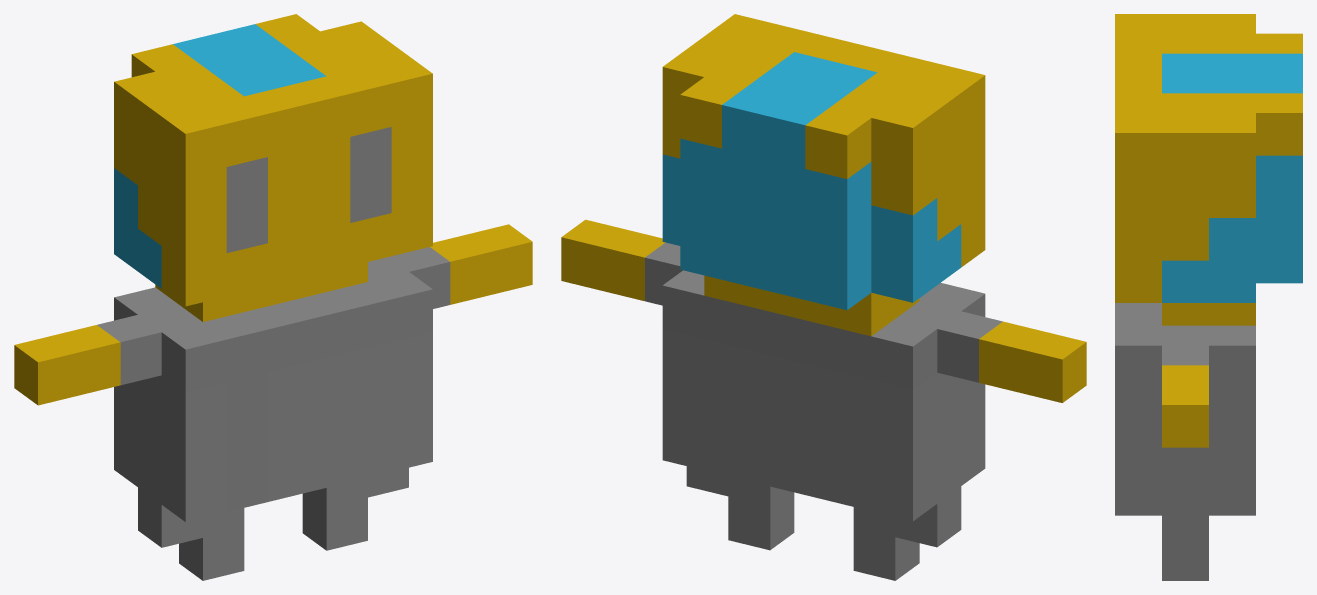
The model's file is alien_engi2d.obj.
The picture shows the model from 3 angles, left to right: view 1: azimuth 30°, elevation 25°; view 2: azimuth 150°, elevation 25°; view 3: azimuth 270°, elevation 25°; orthographic projection. The views are drawn at different scales.
Size of the model in its own units: 12 by 11 by 4.
